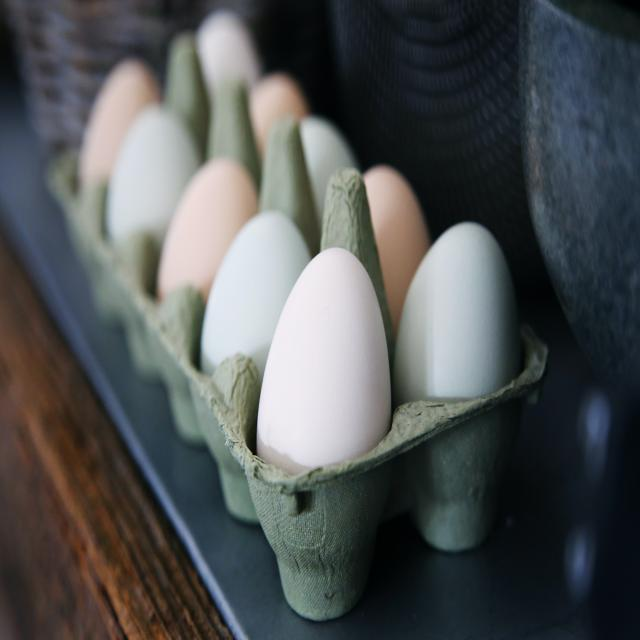egg: (256, 240, 397, 528), (384, 214, 532, 451), (195, 198, 316, 405)
